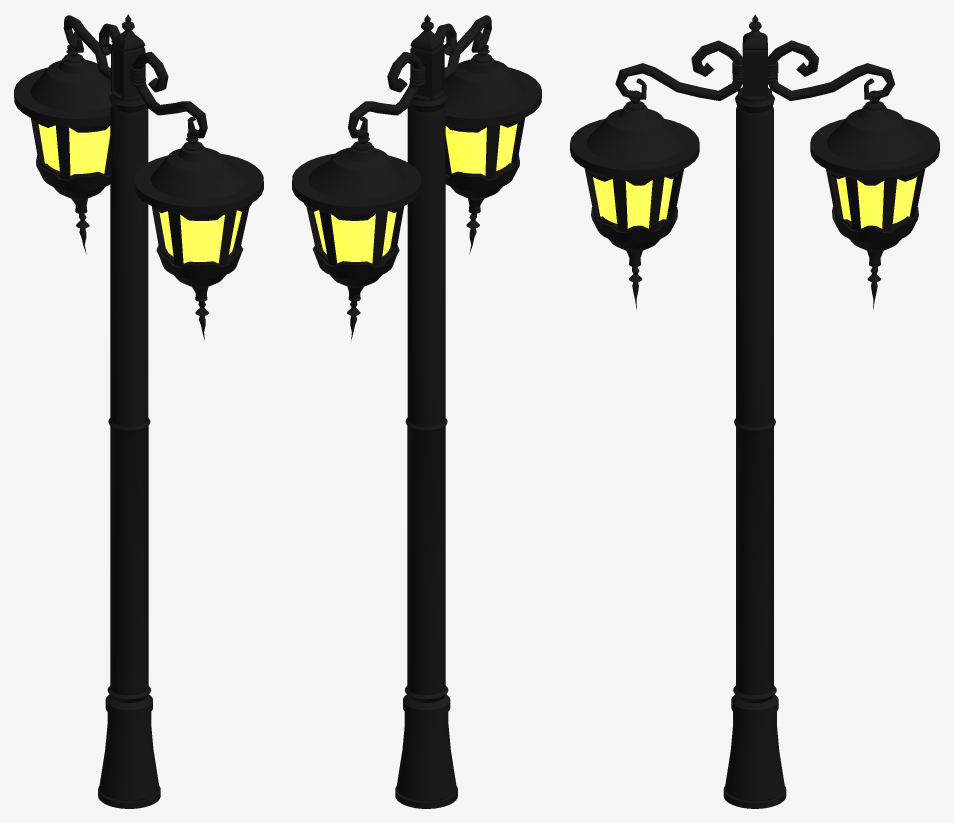
The model's file is fonari_stolb.fbx.
3 renders of one model, left to right at view 1: azimuth 30°, elevation 25°; view 2: azimuth 150°, elevation 25°; view 3: azimuth 270°, elevation 25°, orthographic.
Parts seen in each view (by area): view 1: Plane, Circle.003; view 2: Plane, Circle.003; view 3: Plane, Circle.003.
Part boxes in pixels (x1=…): Plane: x1=14, y1=14, x2=263, y2=808; Circle.003: x1=38, y1=124, x2=241, y2=263; Plane: x1=292, y1=14, x2=541, y2=808; Circle.003: x1=314, y1=123, x2=517, y2=263; Plane: x1=570, y1=14, x2=939, y2=808; Circle.003: x1=593, y1=177, x2=916, y2=228.
Bounding box in the file's own units: 274 × 1820 × 781.
